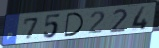2: (109, 7, 130, 34), (87, 10, 106, 35)
4: (130, 5, 150, 31)
5: (42, 12, 63, 40)
7: (23, 16, 40, 41)
D: (63, 12, 85, 39)
